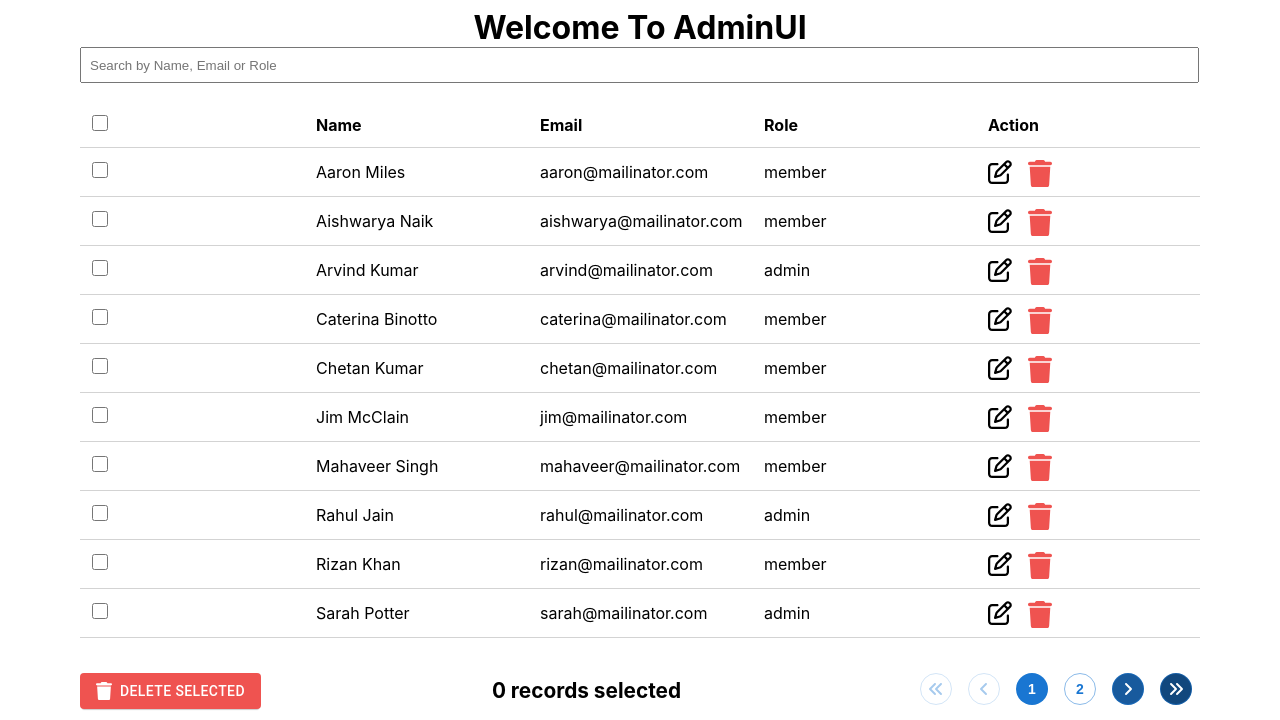
Test: Admin-UI - Admin Table Test › 6. should delete a user when clicked on the delete button
This screenshot has width=1280, height=720.
Check: the text "Arvind Kumar" is shown, box 304,246 -> 528,294
Click the button named "delete user button" in the row of "Arvind Kumar": [1040, 270] box 1028,258 -> 1052,282
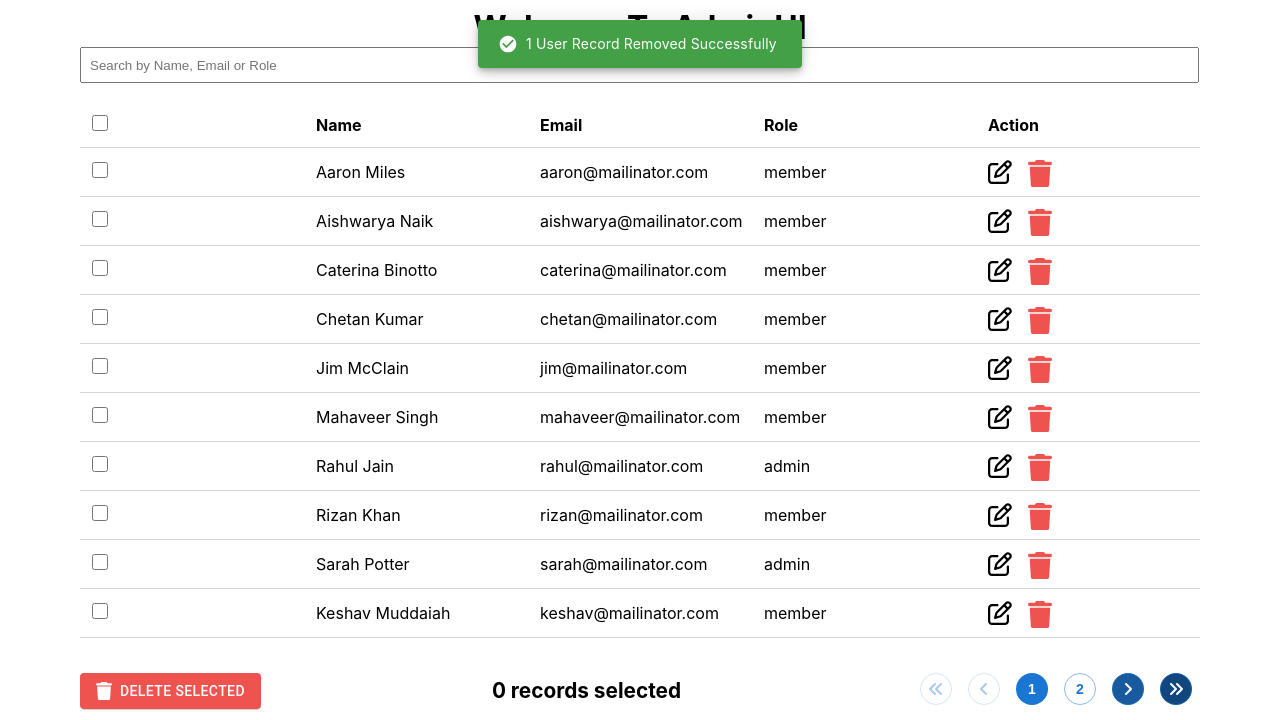
Check: the text "Arvind Kumar" is gone
